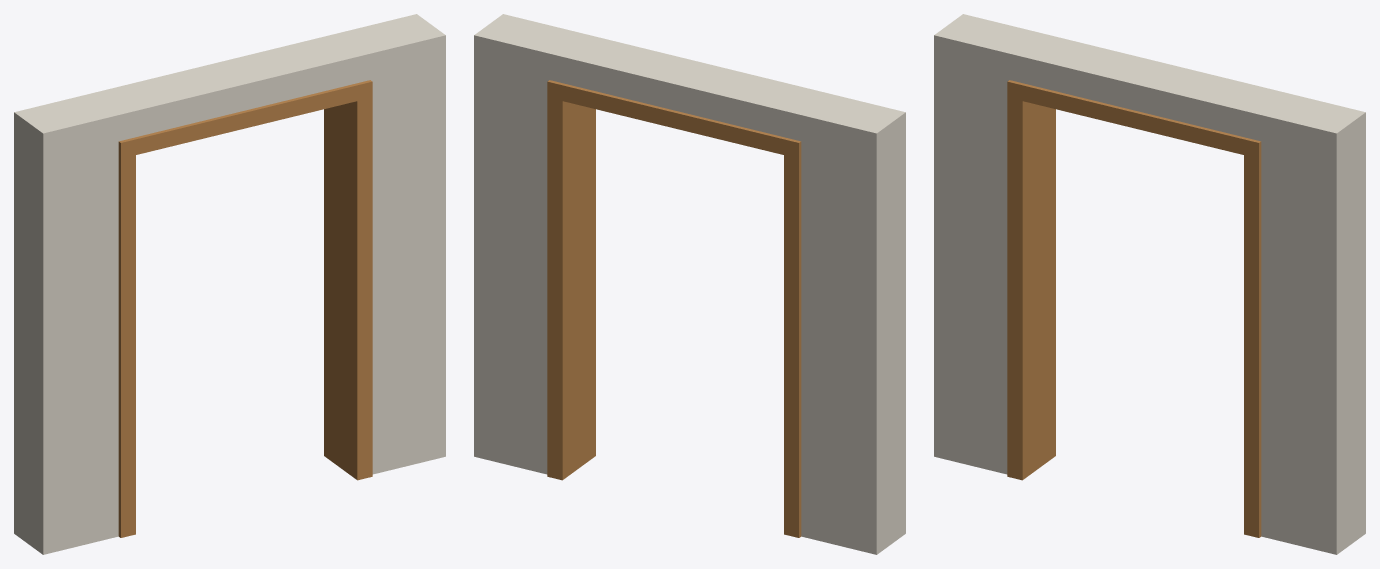
File: PRP_DoorFrameOpen.fbx
The picture shows the model from 3 angles, left to right: view 1: azimuth 30°, elevation 25°; view 2: azimuth 150°, elevation 25°; view 3: azimuth 330°, elevation 25°; orthographic projection.
Visible parts, largest first — view 1: PRP_DoorFrameOpen; view 2: PRP_DoorFrameOpen; view 3: PRP_DoorFrameOpen.
Boxes of the visible parts, x1=… form: PRP_DoorFrameOpen: x1=14, y1=14, x2=445, y2=554; PRP_DoorFrameOpen: x1=474, y1=14, x2=905, y2=554; PRP_DoorFrameOpen: x1=934, y1=14, x2=1365, y2=554.
Bounding box in the file's own units: 8 × 8 × 1.15.
